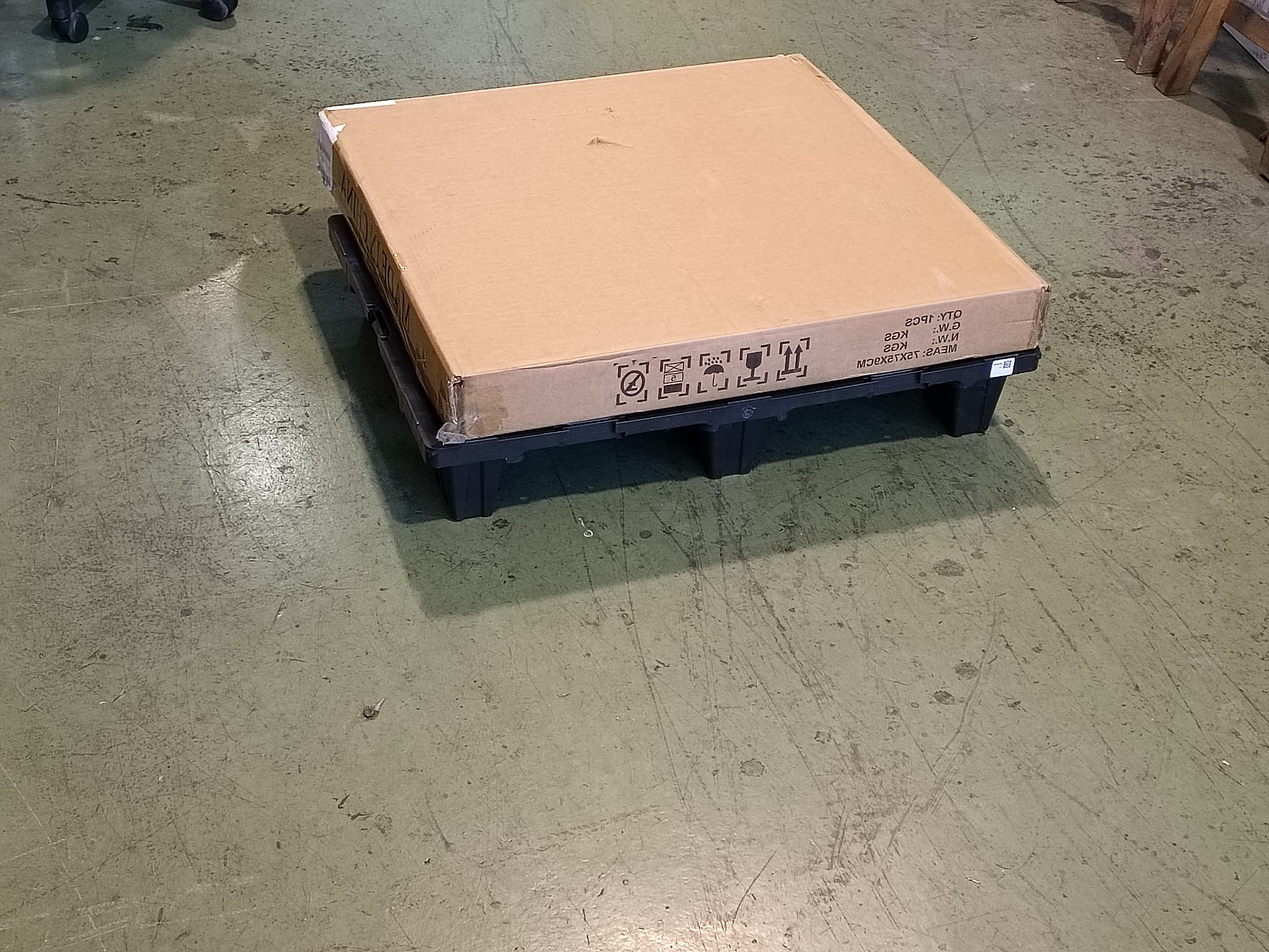block: (444, 453, 511, 532), (950, 364, 1014, 444), (701, 419, 768, 485)
front: (425, 351, 1043, 524)
hole pallet: (503, 426, 714, 515), (754, 383, 957, 475)
